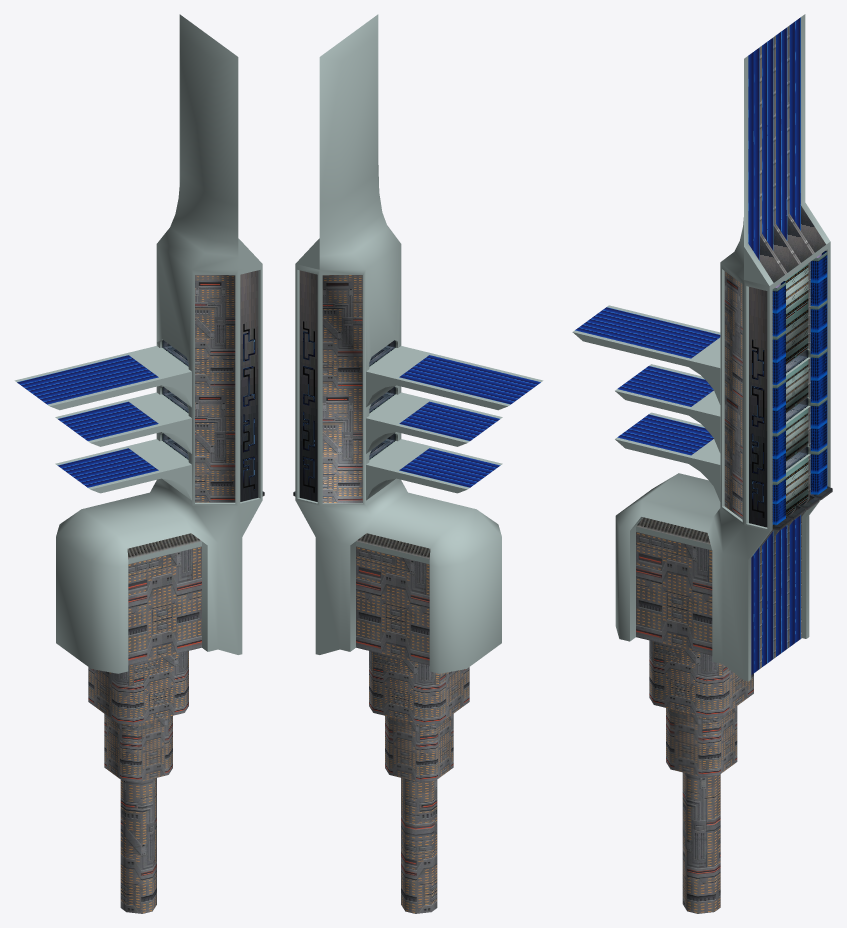
The model's file is landingPad.obj.
3 renders of one model, left to right at view 1: azimuth 30°, elevation 25°; view 2: azimuth 150°, elevation 25°; view 3: azimuth 330°, elevation 25°, orthographic. The views are drawn at different scales.
Visible parts, largest first — view 1: TOW_CAR_TOWER01Z_A_LOD_gxmat391, TOW_CAR_TOWER01Z_A_LOD_gxmat415, TOW_CAR_TOWER01Z_A_LOD_gxmat399, TOW_CAR_TOWER01Z_A_LOD_gxmat418, TOW_CAR_TOWER01Z_A_LOD_gxmat393, TOW_CAR_TOWER01Z_A_LOD_gxmat378, TOW_CAR_TOWER01Z_A_LOD_gxmat381, TOW_CAR_TOWER01Z_A_LOD_gxmat387, TOW_CAR_TOWER01Z_A_LOD_gxmat396, TOW_CAR_TOWER01Z_A_LOD_gxmat421, TOW_CAR_TOWER01Z_A_LOD_gxmat377; view 2: TOW_CAR_TOWER01Z_A_LOD_gxmat391, TOW_CAR_TOWER01Z_A_LOD_gxmat415, TOW_CAR_TOWER01Z_A_LOD_gxmat399, TOW_CAR_TOWER01Z_A_LOD_gxmat418, TOW_CAR_TOWER01Z_A_LOD_gxmat393, TOW_CAR_TOWER01Z_A_LOD_gxmat378, TOW_CAR_TOWER01Z_A_LOD_gxmat381, TOW_CAR_TOWER01Z_A_LOD_gxmat387, TOW_CAR_TOWER01Z_A_LOD_gxmat396, TOW_CAR_TOWER01Z_A_LOD_gxmat421, TOW_CAR_TOWER01Z_A_LOD_gxmat377; view 3: TOW_CAR_TOWER01Z_A_LOD_gxmat391, TOW_CAR_TOWER01Z_A_LOD_gxmat415, TOW_CAR_TOWER01Z_A_LOD_gxmat383, TOW_CAR_TOWER01Z_A_LOD_gxmat418, TOW_CAR_TOWER01Z_A_LOD_gxmat389, TOW_CAR_TOWER01Z_A_LOD_gxmat385, TOW_CAR_TOWER01Z_A_LOD_gxmat423, TOW_CAR_TOWER01Z_A_LOD_gxmat399, TOW_CAR_TOWER01Z_A_LOD_gxmat398, TOW_CAR_TOWER01Z_A_LOD_gxmat393, TOW_CAR_TOWER01Z_A_LOD_gxmat378, TOW_CAR_TOWER01Z_A_LOD_gxmat387 (+5 smaller).
Boxes of the visible parts, x1,y1,x2,y2 form: TOW_CAR_TOWER01Z_A_LOD_gxmat391: (14,14,262,673); TOW_CAR_TOWER01Z_A_LOD_gxmat415: (88,651,188,913); TOW_CAR_TOWER01Z_A_LOD_gxmat399: (195,275,235,502); TOW_CAR_TOWER01Z_A_LOD_gxmat418: (128,546,201,665); TOW_CAR_TOWER01Z_A_LOD_gxmat393: (240,270,258,501); TOW_CAR_TOWER01Z_A_LOD_gxmat378: (17,355,158,404); TOW_CAR_TOWER01Z_A_LOD_gxmat381: (58,401,158,440); TOW_CAR_TOWER01Z_A_LOD_gxmat387: (57,448,158,487); TOW_CAR_TOWER01Z_A_LOD_gxmat396: (127,533,201,559); TOW_CAR_TOWER01Z_A_LOD_gxmat421: (160,339,188,461); TOW_CAR_TOWER01Z_A_LOD_gxmat377: (243,328,254,488); TOW_CAR_TOWER01Z_A_LOD_gxmat391: (295,14,543,673); TOW_CAR_TOWER01Z_A_LOD_gxmat415: (369,651,469,913); TOW_CAR_TOWER01Z_A_LOD_gxmat399: (322,275,362,503); TOW_CAR_TOWER01Z_A_LOD_gxmat418: (356,546,429,665); TOW_CAR_TOWER01Z_A_LOD_gxmat393: (299,270,317,501); TOW_CAR_TOWER01Z_A_LOD_gxmat378: (399,355,540,404); TOW_CAR_TOWER01Z_A_LOD_gxmat381: (399,401,499,440); TOW_CAR_TOWER01Z_A_LOD_gxmat387: (399,448,500,487); TOW_CAR_TOWER01Z_A_LOD_gxmat396: (356,533,430,559); TOW_CAR_TOWER01Z_A_LOD_gxmat421: (369,339,397,461); TOW_CAR_TOWER01Z_A_LOD_gxmat377: (303,331,314,492); TOW_CAR_TOWER01Z_A_LOD_gxmat391: (572,14,830,681); TOW_CAR_TOWER01Z_A_LOD_gxmat415: (649,640,753,913); TOW_CAR_TOWER01Z_A_LOD_gxmat383: (748,17,800,260); TOW_CAR_TOWER01Z_A_LOD_gxmat418: (636,532,712,655); TOW_CAR_TOWER01Z_A_LOD_gxmat389: (772,251,827,524); TOW_CAR_TOWER01Z_A_LOD_gxmat385: (751,515,800,674); TOW_CAR_TOWER01Z_A_LOD_gxmat423: (784,263,808,515); TOW_CAR_TOWER01Z_A_LOD_gxmat399: (724,271,742,519); TOW_CAR_TOWER01Z_A_LOD_gxmat398: (759,25,814,668); TOW_CAR_TOWER01Z_A_LOD_gxmat393: (749,287,767,527); TOW_CAR_TOWER01Z_A_LOD_gxmat378: (575,307,720,358); TOW_CAR_TOWER01Z_A_LOD_gxmat387: (617,414,713,455).
Bounding box in the file's own units: 204 × 802 × 100.
